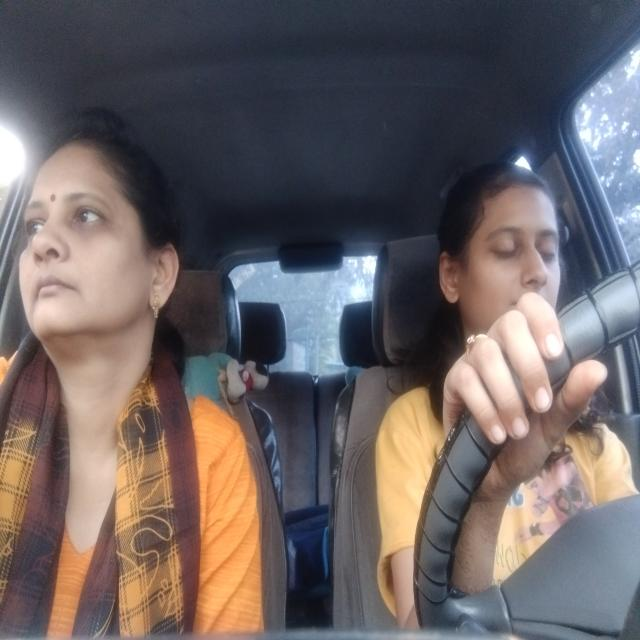drowsy: (428, 154, 578, 320)
person: (20, 106, 183, 360)
